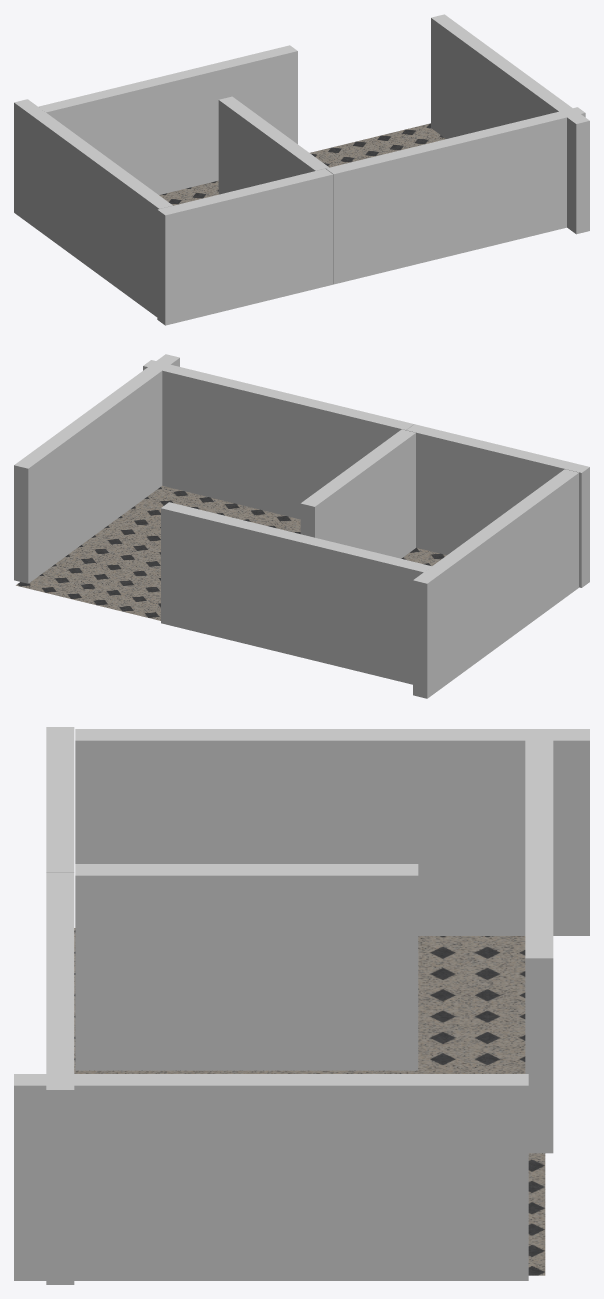
File: Kitchen_n_Pantry.fbx
The picture shows the model from 3 angles, top to bottom: view 1: azimuth 30°, elevation 25°; view 2: azimuth 150°, elevation 25°; view 3: azimuth 270°, elevation 25°; orthographic projection. The views are drawn at different scales.
Parts seen in each view (by area): view 1: Kitchen_wall3, Pantry_wall2, Kitchen_wall, Pantry_wall1, Kitchen_wall4, Kitchen_wall1, Kitchen_floor; view 2: Kitchen_wall, Kitchen_wall3, Pantry_wall1, Kitchen_wall4, Pantry_wall2, Kitchen_floor, Kitchen_wall1; view 3: Kitchen_wall4, Pantry_wall1, Kitchen_wall1, Kitchen_floor, Kitchen_wall3, Kitchen_wall, Pantry_wall2.
Boxes of the visible parts, x1,y1,x2,y2 form: Kitchen_wall3: (326, 107, 585, 284); Pantry_wall2: (157, 168, 333, 325); Kitchen_wall: (38, 45, 297, 194); Pantry_wall1: (14, 99, 172, 316); Kitchen_wall4: (431, 14, 589, 234); Kitchen_wall1: (218, 96, 328, 194); Kitchen_floor: (159, 123, 445, 205); Kitchen_wall: (161, 502, 431, 684); Kitchen_wall3: (143, 360, 414, 519); Pantry_wall1: (413, 469, 578, 698); Kitchen_wall4: (14, 354, 179, 583); Pantry_wall2: (406, 424, 589, 587); Kitchen_floor: (16, 486, 446, 620); Kitchen_wall1: (300, 429, 415, 558); Kitchen_wall4: (14, 1074, 528, 1280); Pantry_wall1: (75, 729, 589, 935); Kitchen_wall1: (75, 864, 418, 1070); Kitchen_floor: (74, 928, 545, 1275); Kitchen_wall3: (46, 872, 74, 1284); Kitchen_wall: (525, 740, 553, 1153); Pantry_wall2: (46, 727, 74, 872).
Size of the model in its own units: 1399 by 351 by 938.
